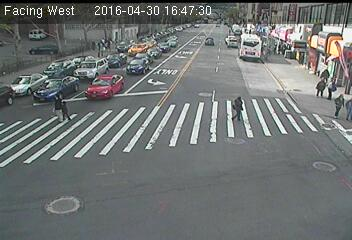neg: (308, 166, 339, 208), (127, 109, 146, 135), (171, 27, 188, 50), (135, 44, 149, 63), (272, 64, 286, 83), (52, 183, 66, 201), (187, 73, 201, 91), (328, 9, 341, 27), (202, 33, 215, 50), (15, 71, 27, 88), (269, 49, 277, 59), (43, 47, 50, 56)
pos: (47, 94, 67, 121), (328, 92, 348, 117), (231, 95, 250, 120), (57, 100, 74, 122), (315, 76, 331, 98), (326, 77, 342, 99)
